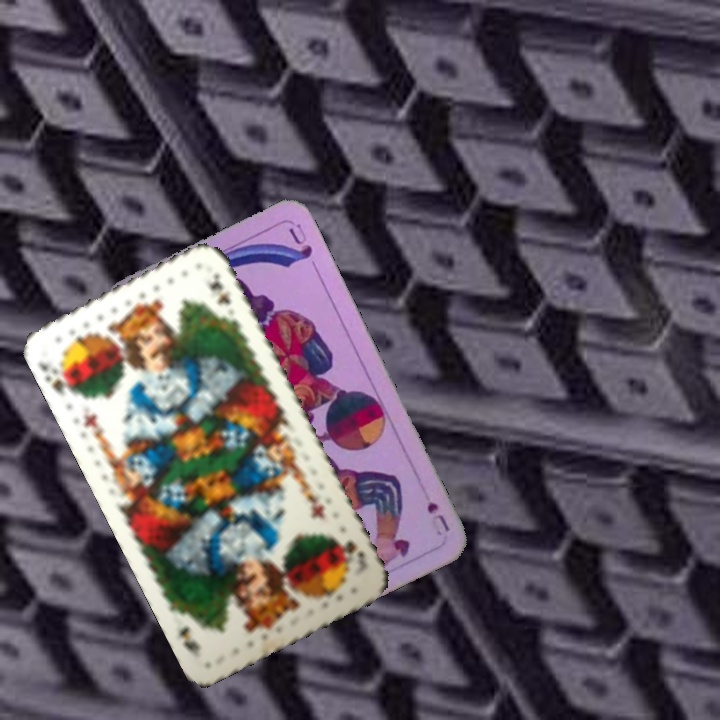SK: (35, 357, 80, 399), (331, 532, 371, 567)
SU: (422, 498, 453, 539)
